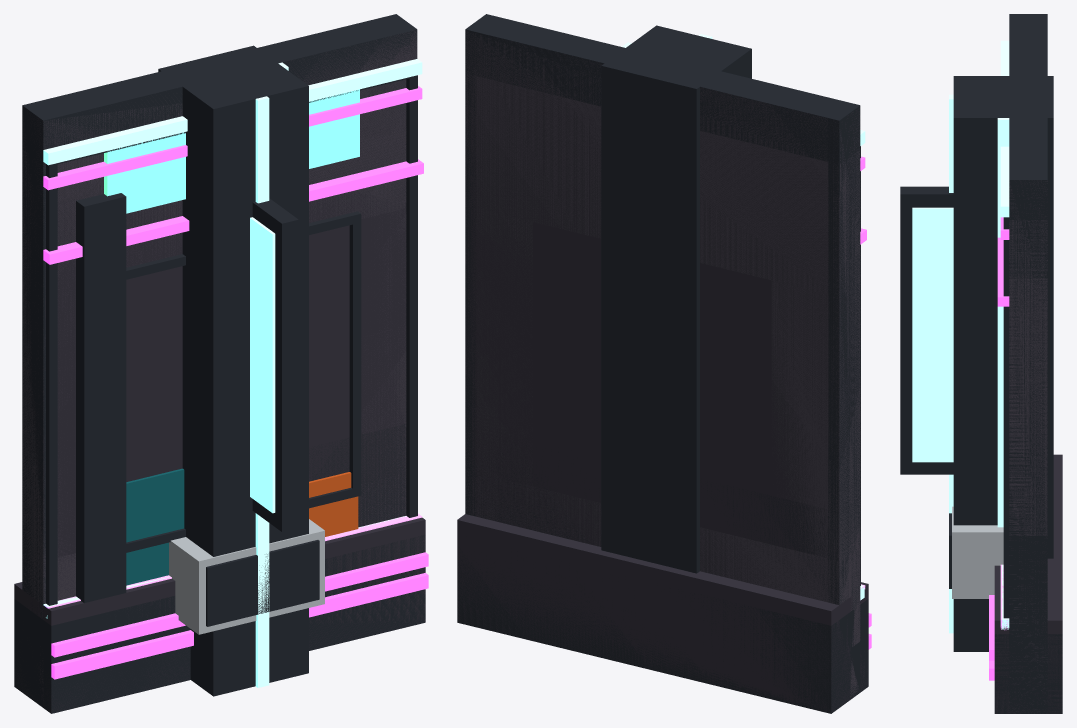
File: facades_neon.glb
3 views of the same model, side by side, from view 1: azimuth 30°, elevation 25°; view 2: azimuth 150°, elevation 25°; view 3: azimuth 270°, elevation 25° (orthographic). The views are drawn at different scales.
Parts seen in each view (by area): view 1: Neon_Wall, Glass_Column, Neon_Window, Glass_Lit, Glass_Cornice, Neon_Cornice, Neon_ShopWall, Neon_Shop, Glass_Lobby, Glass_Band, Neon_Band; view 2: Neon_Wall, Neon_Window, Glass_Column, Neon_Cornice, Glass_Lit, Glass_Cornice, Neon_Shop, Glass_Band; view 3: Glass_Column, Glass_Lit, Neon_Wall, Neon_Window, Neon_Shop, Glass_Band, Neon_Cornice, Glass_Lobby, Glass_Cornice.
Part boxes in pixels (bbox=[...]): Neon_Wall: bbox=[43, 31, 417, 603]; Glass_Column: bbox=[158, 45, 308, 696]; Neon_Window: bbox=[22, 30, 422, 700]; Glass_Lit: bbox=[22, 14, 417, 707]; Glass_Cornice: bbox=[14, 535, 428, 713]; Neon_Cornice: bbox=[14, 517, 428, 713]; Neon_ShopWall: bbox=[43, 159, 423, 585]; Neon_Shop: bbox=[22, 30, 415, 699]; Glass_Lobby: bbox=[36, 59, 422, 707]; Glass_Band: bbox=[22, 424, 406, 701]; Neon_Band: bbox=[44, 513, 422, 608]; Neon_Wall: bbox=[465, 30, 839, 602]; Neon_Window: bbox=[465, 30, 865, 699]; Glass_Column: bbox=[601, 25, 751, 573]; Neon_Cornice: bbox=[457, 514, 871, 712]; Glass_Lit: bbox=[465, 14, 860, 699]; Glass_Cornice: bbox=[457, 547, 871, 713]; Neon_Shop: bbox=[465, 32, 860, 698]; Glass_Band: bbox=[472, 439, 864, 698]; Glass_Column: bbox=[949, 76, 1053, 651]; Glass_Lit: bbox=[1003, 14, 1047, 713]; Neon_Wall: bbox=[900, 186, 953, 474]; Neon_Window: bbox=[949, 180, 1047, 710]; Neon_Shop: bbox=[997, 181, 1047, 713]; Glass_Band: bbox=[1002, 536, 1047, 713]; Neon_Cornice: bbox=[989, 454, 1062, 713]; Glass_Lobby: bbox=[1000, 40, 1047, 713]; Glass_Cornice: bbox=[989, 634, 1062, 713].
Size of the model in its own units: 2.67 by 4 by 1.1.
